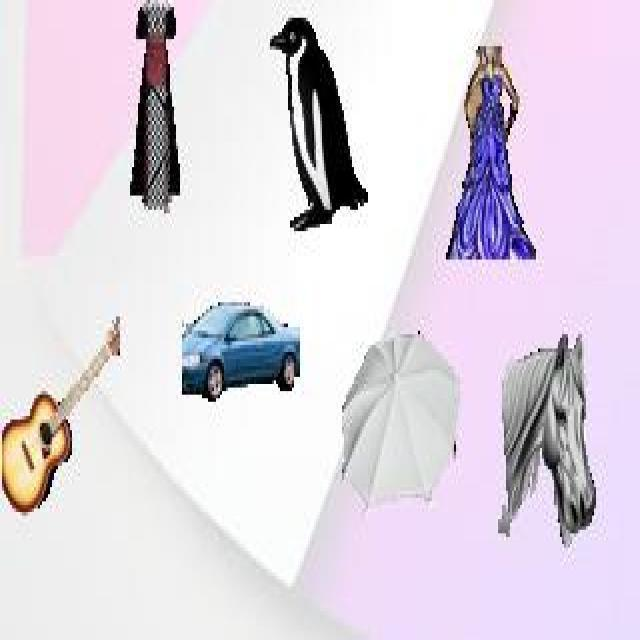Other Objects: (443, 44, 538, 260), (130, 2, 182, 214)
